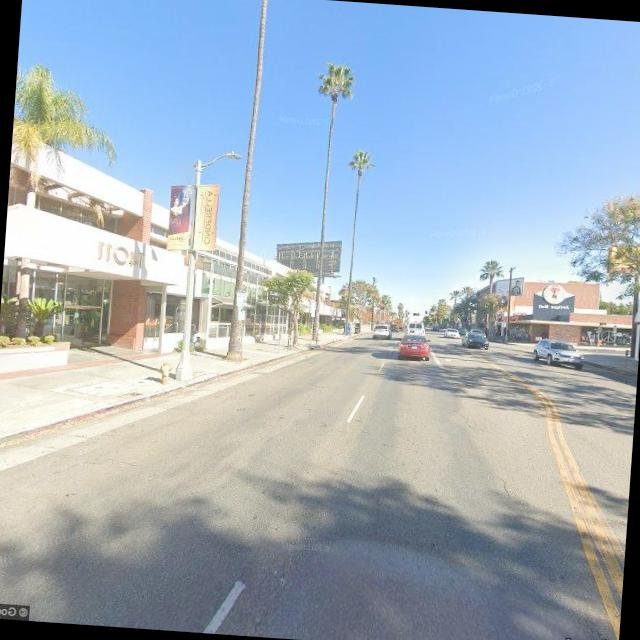pothole: (494, 472, 524, 503)
